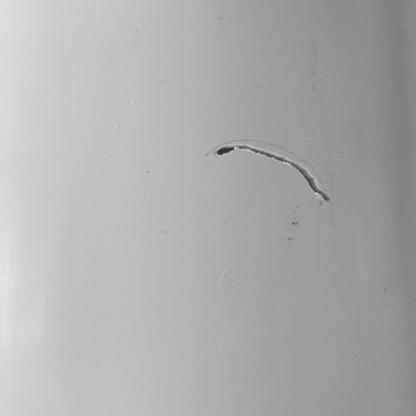fengxi: (214, 141, 333, 205)
